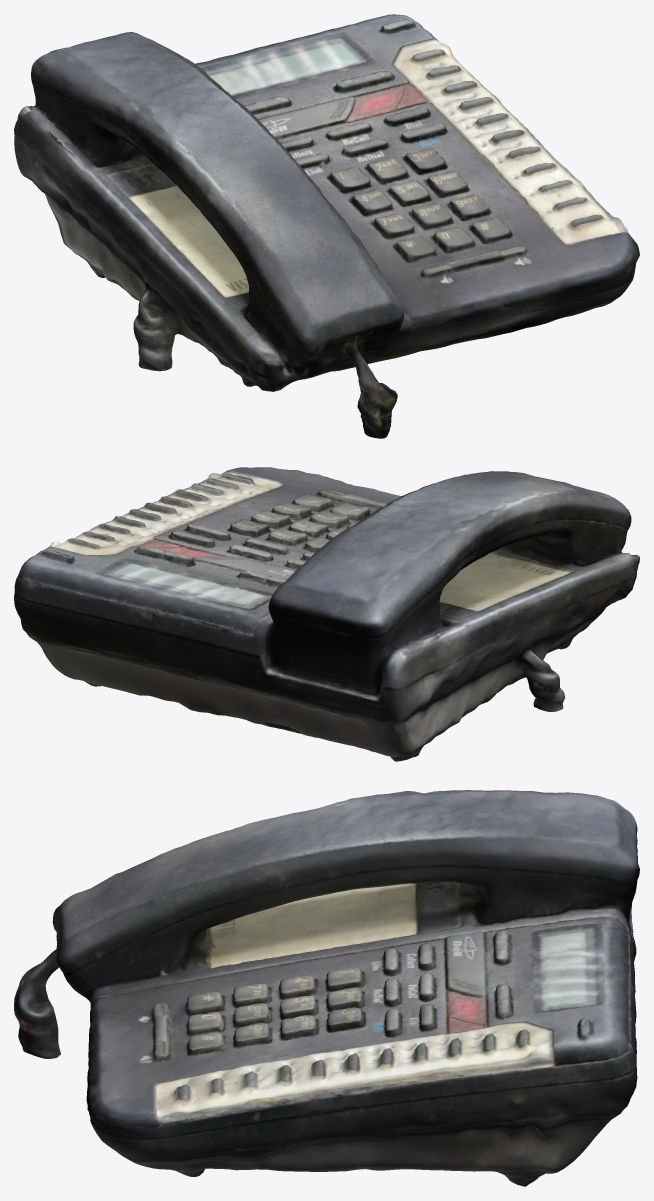
File: phone.fbx
3 renders of one model, top to bottom at view 1: azimuth 30°, elevation 25°; view 2: azimuth 150°, elevation 25°; view 3: azimuth 270°, elevation 25°, orthographic. The views are drawn at different scales.
Visible parts, largest first — view 1: Object_4; view 2: Object_4; view 3: Object_4.
Part boxes in pixels (left/top/right/bottom): Object_4: left=14, top=14, right=639, bottom=438; Object_4: left=14, top=467, right=639, bottom=761; Object_4: left=14, top=790, right=639, bottom=1186.
Bounding box in the file's own units: 84.84 × 41.24 × 101.
Materials: 1 (1 with a texture image).
